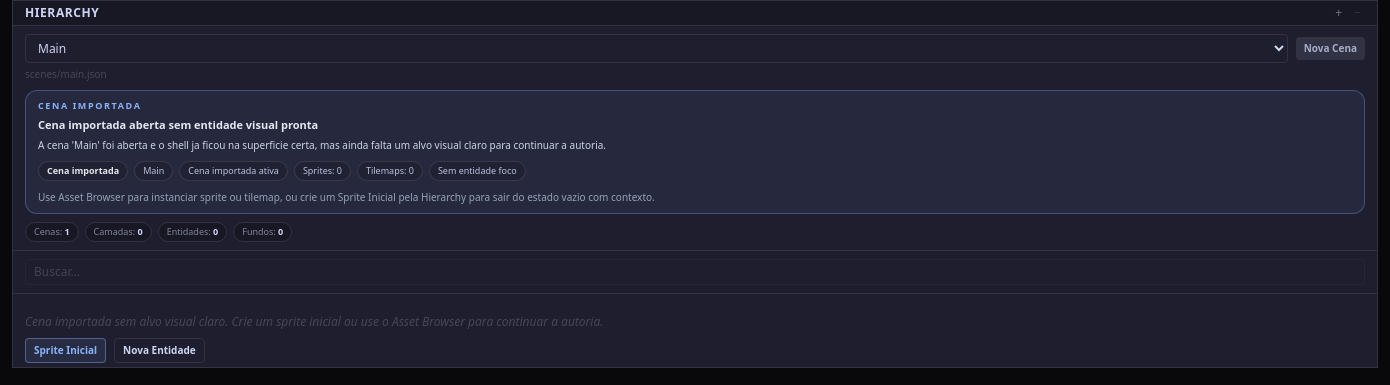
Test: HierarchyPanel › creates a starter sprite from the empty-scene CTA
Check: the element with test id "hierarchy-scene-notice" shows "Cena importada", box [38,99,142,112]
Check: the element with test id "hierarchy-scene-summary" shows "Cenas: 1", box [25,222,292,242]
Step 1. Click the button "Sprite Inicial" → (66, 350), box [25,338,106,362]
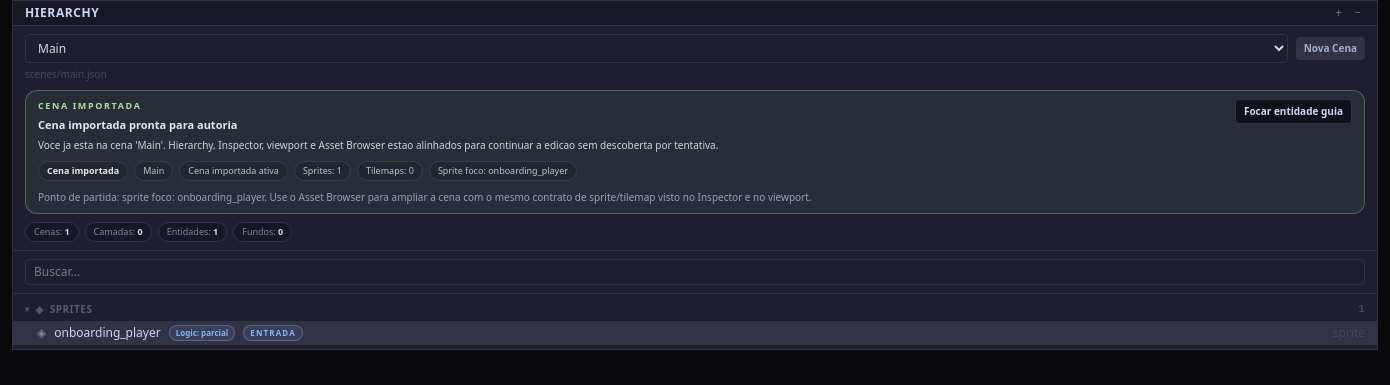
Check: the text "onboarding_player" is shown, box [54,325,161,341]
Check: the element with test id "hierarchy-scene-summary" shows "Entidades: 1", box [25,222,292,242]
